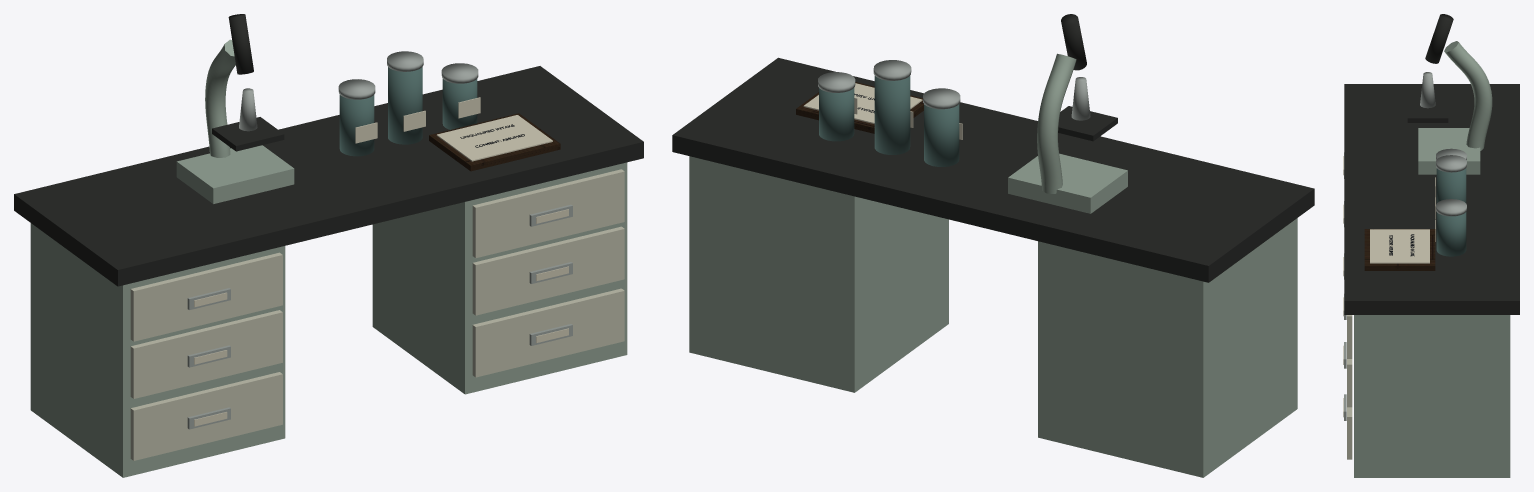
File: research-bench.glb
3 renders of one model, left to right at view 1: azimuth 30°, elevation 25°; view 2: azimuth 150°, elevation 25°; view 3: azimuth 270°, elevation 25°, orthographic. The views are drawn at different scales.
Parts seen in each view (by area): view 1: Laboratory bench top, Bench storage cabinet, Bench storage cabinet.001, Bench drawer.003, Bench drawer.004, Bench drawer.005, Bench drawer.002, Bench drawer, Bench drawer.001, Microscope base, Research records sheet, Specimen jar.001 (+9 smaller); view 2: Laboratory bench top, Bench storage cabinet, Bench storage cabinet.001, Microscope base, Microscope arm, Specimen jar.001, Specimen jar, Specimen jar.002, Microscope stage, Research records sheet, Microscope eyepiece, Research clipboard (+4 smaller); view 3: Laboratory bench top, Bench storage cabinet.001, Microscope arm, Research records sheet, Microscope base, Specimen jar.002, Research clipboard, Specimen jar.001, Microscope stage, Microscope eyepiece, Specimen jar lid.002, Specimen jar lid.001 (+5 smaller).
Boxes of the visible parts, <box> form: Laboratory bench top: <box>14,66,643,286</box>; Bench storage cabinet: <box>30,223,285,477</box>; Bench storage cabinet.001: <box>372,162,627,394</box>; Bench drawer.003: <box>472,288,624,377</box>; Bench drawer.004: <box>472,226,624,315</box>; Bench drawer.005: <box>472,169,624,257</box>; Bench drawer.002: <box>130,252,282,341</box>; Bench drawer: <box>130,372,282,460</box>; Bench drawer.001: <box>130,310,282,398</box>; Microscope base: <box>176,145,294,203</box>; Research records sheet: <box>436,115,552,161</box>; Specimen jar.001: <box>388,67,422,144</box>; Laboratory bench top: <box>672,57,1314,282</box>; Bench storage cabinet: <box>1038,218,1297,477</box>; Bench storage cabinet.001: <box>689,156,948,392</box>; Microscope base: <box>1008,153,1127,213</box>; Microscope arm: <box>1037,53,1076,193</box>; Specimen jar.001: <box>874,76,910,154</box>; Specimen jar: <box>924,104,959,166</box>; Specimen jar.002: <box>819,88,854,141</box>; Microscope stage: <box>1058,106,1117,141</box>; Research records sheet: <box>803,83,922,123</box>; Microscope eyepiece: <box>1061,14,1086,70</box>; Research clipboard: <box>796,82,923,133</box>; Laboratory bench top: <box>1344,84,1519,314</box>; Bench storage cabinet.001: <box>1354,315,1510,477</box>; Microscope arm: <box>1444,41,1492,150</box>; Research records sheet: <box>1370,229,1429,263</box>; Microscope base: <box>1418,128,1480,174</box>; Specimen jar.002: <box>1436,212,1466,256</box>; Research clipboard: <box>1364,229,1435,270</box>; Specimen jar.001: <box>1436,168,1466,202</box>; Microscope stage: <box>1407,98,1448,122</box>; Microscope eyepiece: <box>1425,14,1453,63</box>; Specimen jar lid.002: <box>1436,199,1466,216</box>; Specimen jar lid.001: <box>1436,155,1466,172</box>.
Size of the model in its own units: 2.4 by 1.67 by 0.8265.
8 materials, 1 textured.
